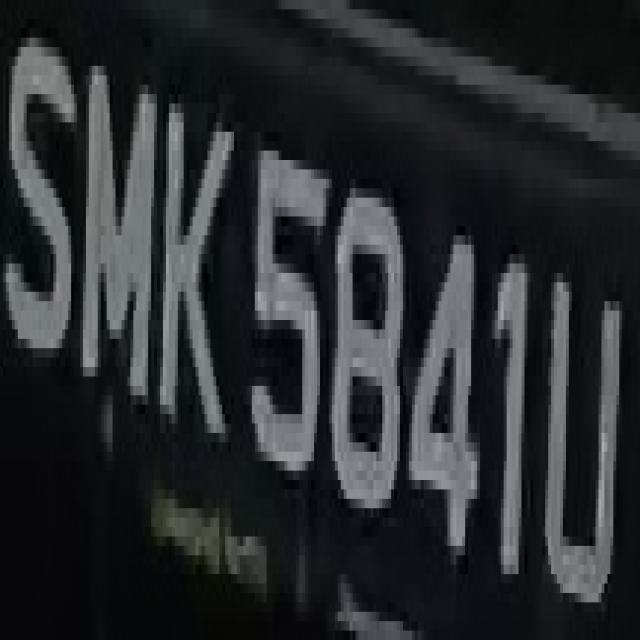1: (489, 207, 533, 602)
4: (394, 198, 486, 564)
5: (240, 122, 332, 470)
8: (335, 160, 409, 555)
K: (157, 47, 234, 471)
M: (83, 29, 157, 442)
S: (9, 0, 80, 376)
U: (542, 217, 622, 621)
